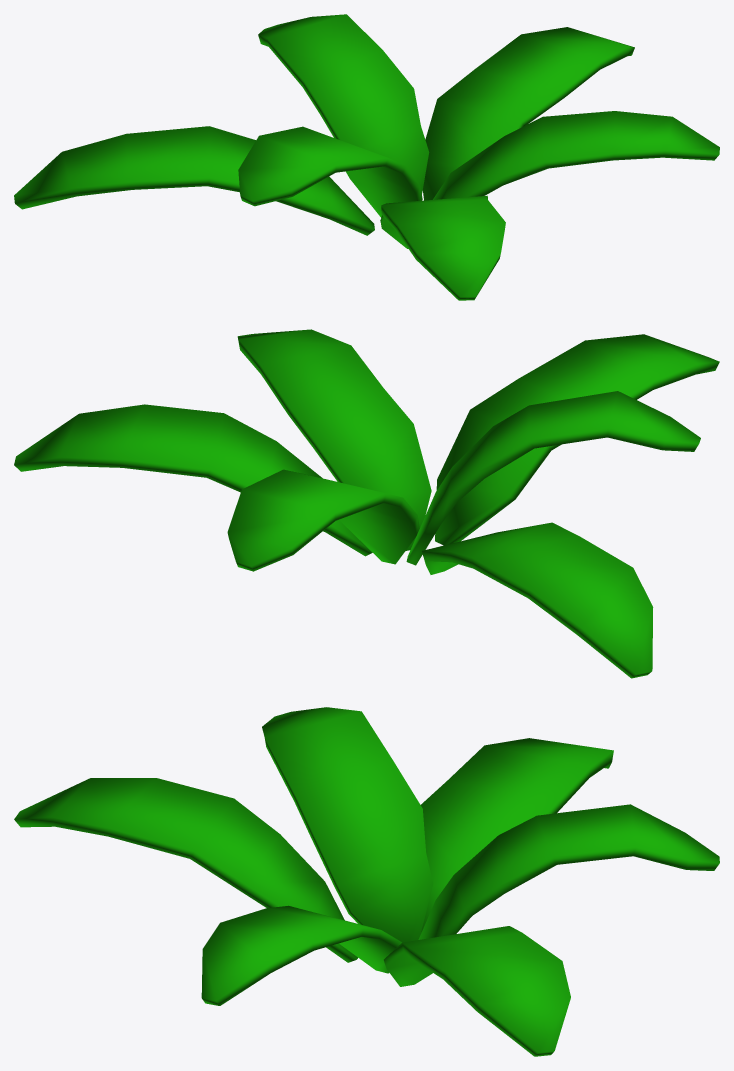
File: grass_4.fbx
3 views of the same model, one above another, from view 1: azimuth 30°, elevation 25°; view 2: azimuth 150°, elevation 25°; view 3: azimuth 270°, elevation 25° (orthographic). The views are drawn at different scales.
Parts seen in each view (by area): view 1: rpgpp_lt_plant_01; view 2: rpgpp_lt_plant_01; view 3: rpgpp_lt_plant_01.
Part boxes in pixels (x1=…): rpgpp_lt_plant_01: x1=14, y1=14, x2=719, y2=300; rpgpp_lt_plant_01: x1=14, y1=329, x2=719, y2=678; rpgpp_lt_plant_01: x1=14, y1=707, x2=719, y2=1056.
Bounding box in the file's own units: 121 × 28.37 × 110.
